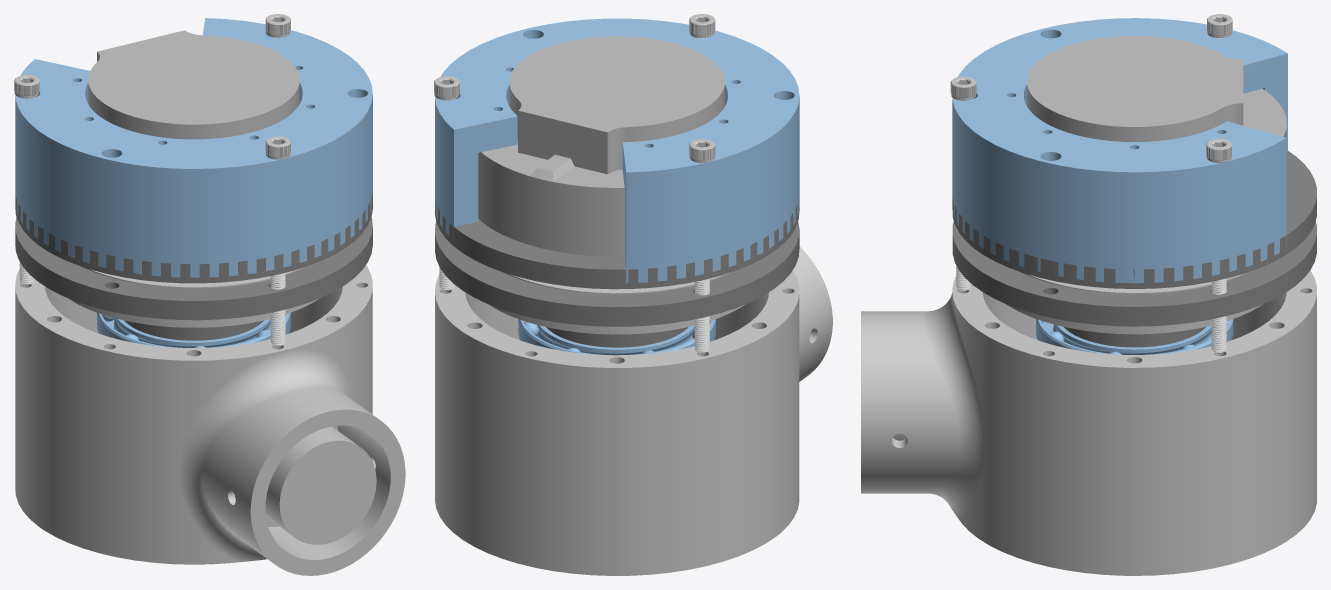
The model's file is ARM.gltf.
3 renders of one model, left to right at view 1: azimuth 30°, elevation 25°; view 2: azimuth 150°, elevation 25°; view 3: azimuth 270°, elevation 25°, orthographic. The views are drawn at different scales.
Parts seen in each view (by area): view 1: Joint, MotorHousing, qddmotor, BearingHousing (×2), 91290A201_Alloy Steel Socket Head Screw (×3), Absorber (×2), 4668K163_Permanently Lubricated Stainless Steel Ball Bearing (×2), Shaft; view 2: Joint, MotorHousing, qddmotor, BearingHousing (×2), 91290A201_Alloy Steel Socket Head Screw (×3), Absorber (×2), 4668K163_Permanently Lubricated Stainless Steel Ball Bearing (×2), Shaft; view 3: Joint, MotorHousing, qddmotor, BearingHousing (×2), 91290A201_Alloy Steel Socket Head Screw (×3), Absorber (×2), 4668K163_Permanently Lubricated Stainless Steel Ball Bearing (×2), Shaft.
Part boxes in pixels (<box>): Joint: <box>15,265,405,575</box>; MotorHousing: <box>15,18,372,277</box>; qddmotor: <box>88,30,299,139</box>; BearingHousing (×2): <box>15,192,372,320</box>; 91290A201_Alloy Steel Socket Head Screw (×3): <box>14,14,290,346</box>; Absorber (×2): <box>68,266,319,327</box>; 4668K163_Permanently Lubricated Stainless Steel Ball Bearing (×2): <box>97,313,290,347</box>; Shaft: <box>124,320,263,340</box>; Joint: <box>435,246,832,575</box>; MotorHousing: <box>435,18,799,283</box>; qddmotor: <box>478,36,724,256</box>; BearingHousing (×2): <box>435,199,799,326</box>; 91290A201_Alloy Steel Socket Head Screw (×3): <box>434,14,715,353</box>; Absorber (×2): <box>488,272,745,334</box>; 4668K163_Permanently Lubricated Stainless Steel Ball Bearing (×2): <box>518,319,715,355</box>; Shaft: <box>546,327,687,347</box>; Joint: <box>861,270,1316,575</box>; MotorHousing: <box>952,18,1287,283</box>; qddmotor: <box>1027,35,1286,141</box>; BearingHousing (×2): <box>952,150,1316,326</box>; 91290A201_Alloy Steel Socket Head Screw (×3): <box>950,14,1232,353</box>; Absorber (×2): <box>1006,271,1262,334</box>; 4668K163_Permanently Lubricated Stainless Steel Ball Bearing (×2): <box>1036,319,1233,354</box>; Shaft: <box>1064,327,1205,347</box>.
Size of the model in its own units: 0.12 by 0.1514 by 0.1499.
